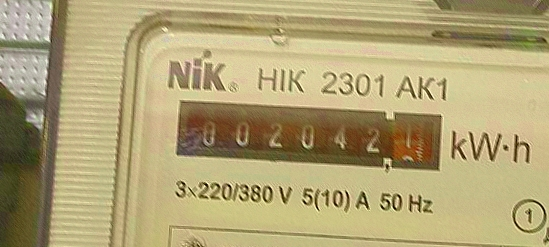0: (233, 115, 252, 147), (298, 118, 317, 149), (199, 115, 218, 145)
1: (400, 117, 416, 149)
2: (266, 118, 285, 147), (364, 122, 382, 152)
4: (331, 117, 351, 150)
screen: (171, 94, 448, 177)
